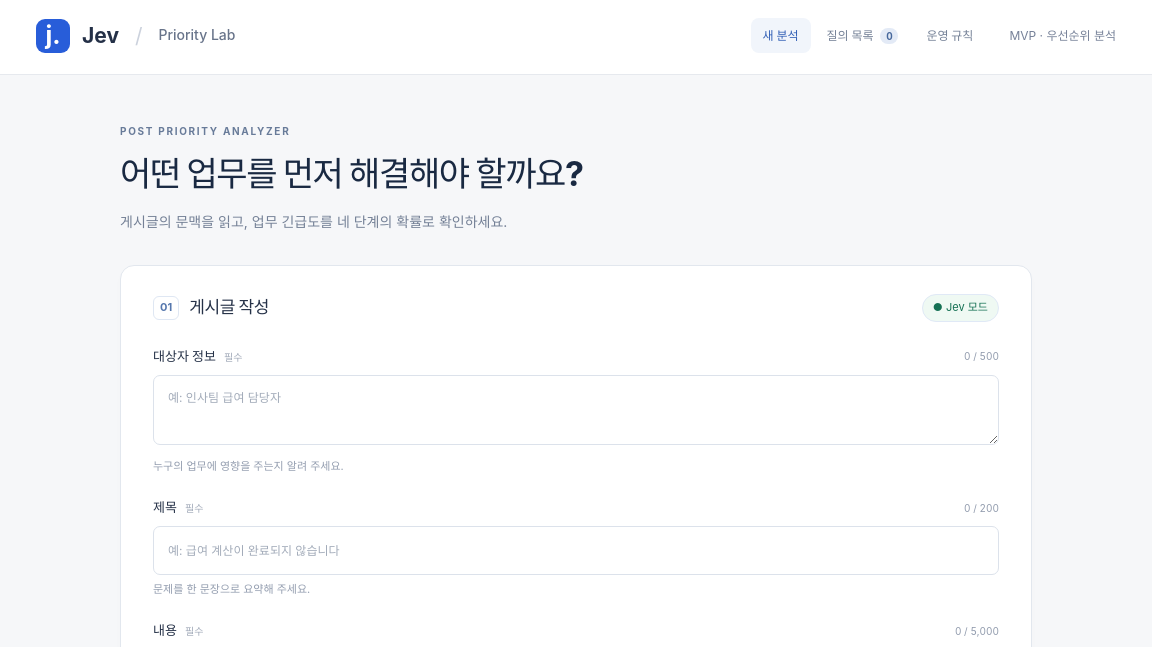
Test: shows Jev provenance
The width and height of the screenshot is (1152, 647).
Expected: the text "● Jev 모드" is shown, [922,294,999,322]
In the text box with id "targetInfo": [576, 410] box [153,375,999,446], type "인사팀 급여 담당자"
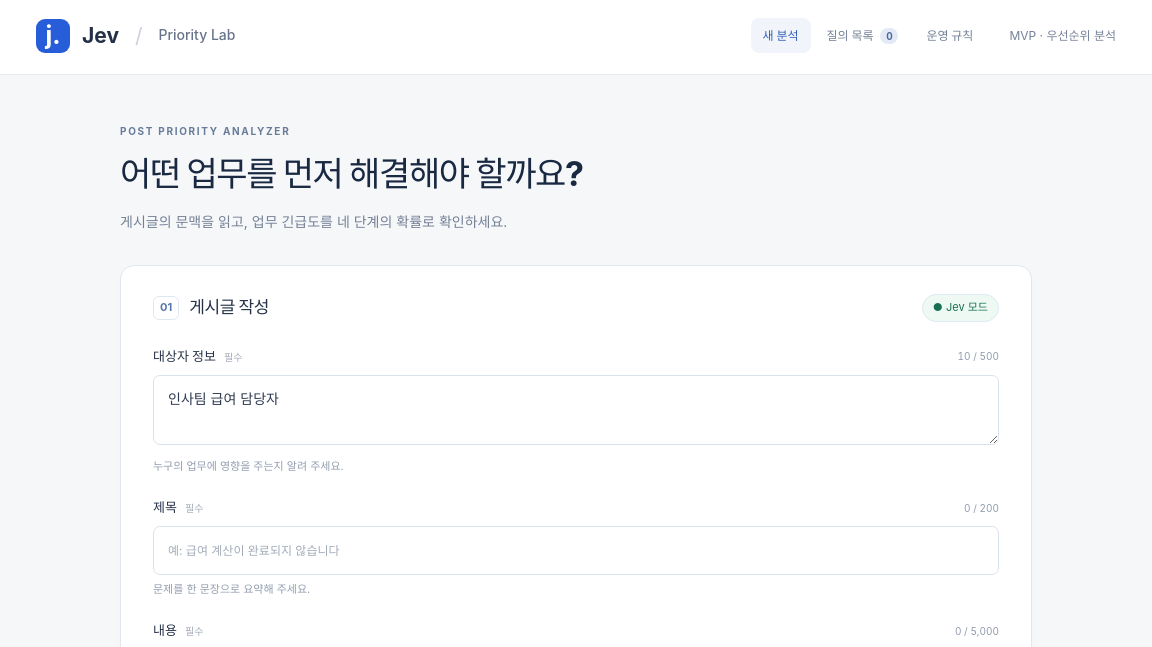
In the field with id "title": [576, 550] box [153,526,999,575], type "급여 계산이 멈췄습니다"
(page scrolled)
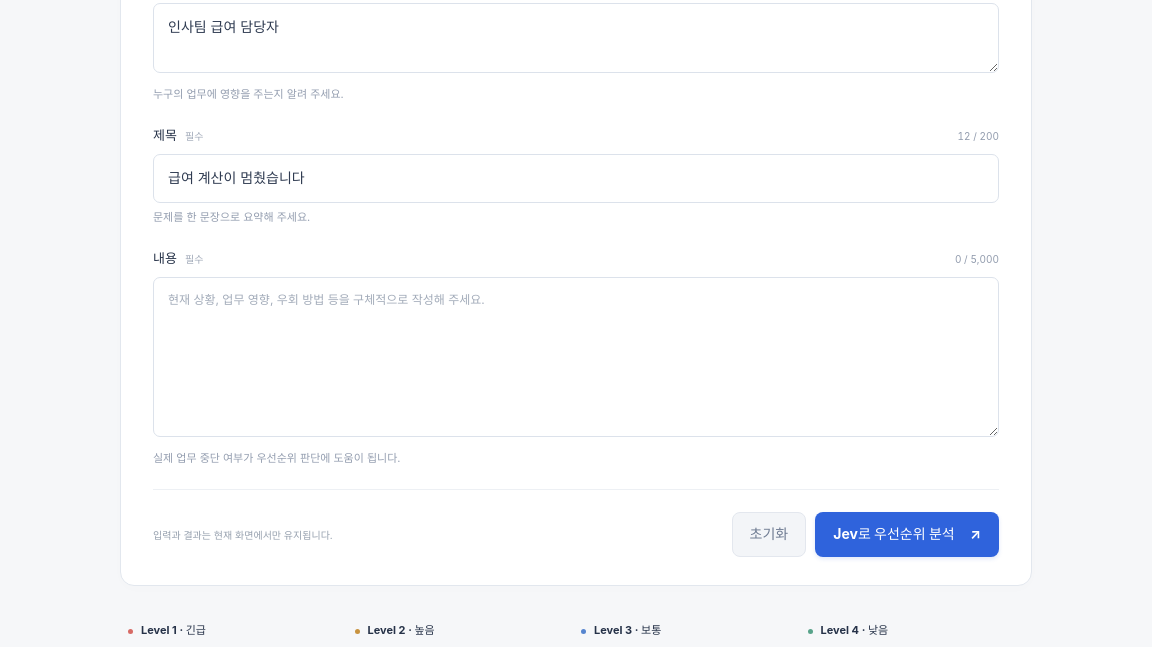
In the text box labelled "내용 필수": [576, 357] box [153,277,999,437], type "급여 계산이 처리 중에서 넘어가지 않아 오늘 마감 업무를 진행할 수 없습니다."
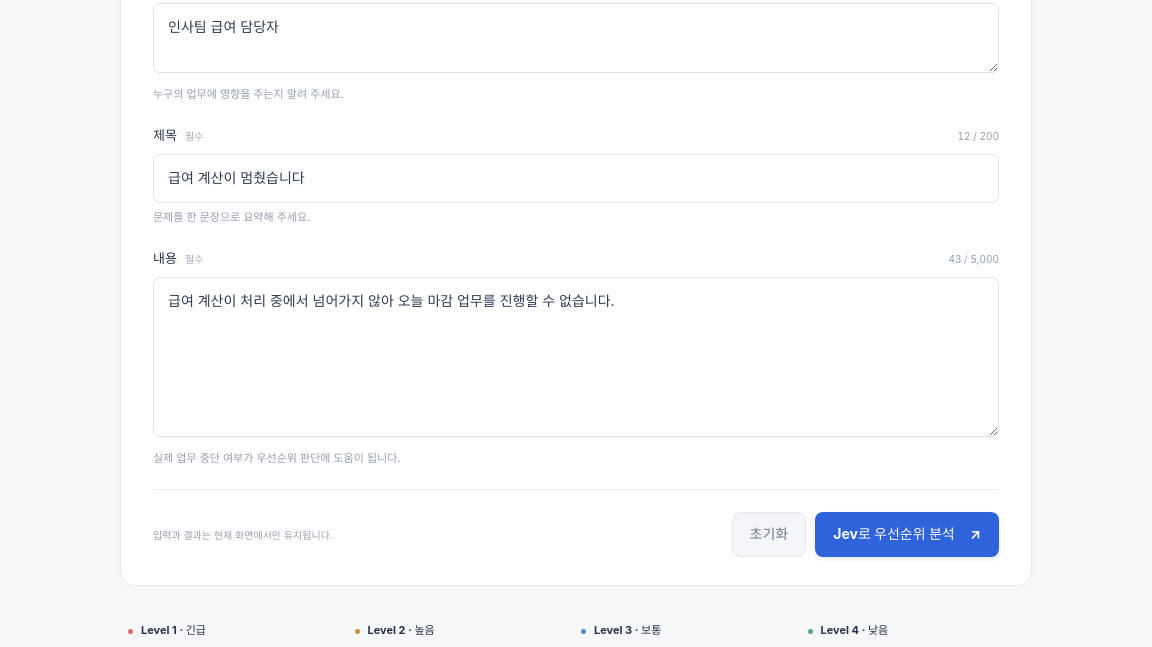
Click the button "Jev로 우선순위 분석 ↗": [907, 534] box [815,512,999,557]
(page scrolled)
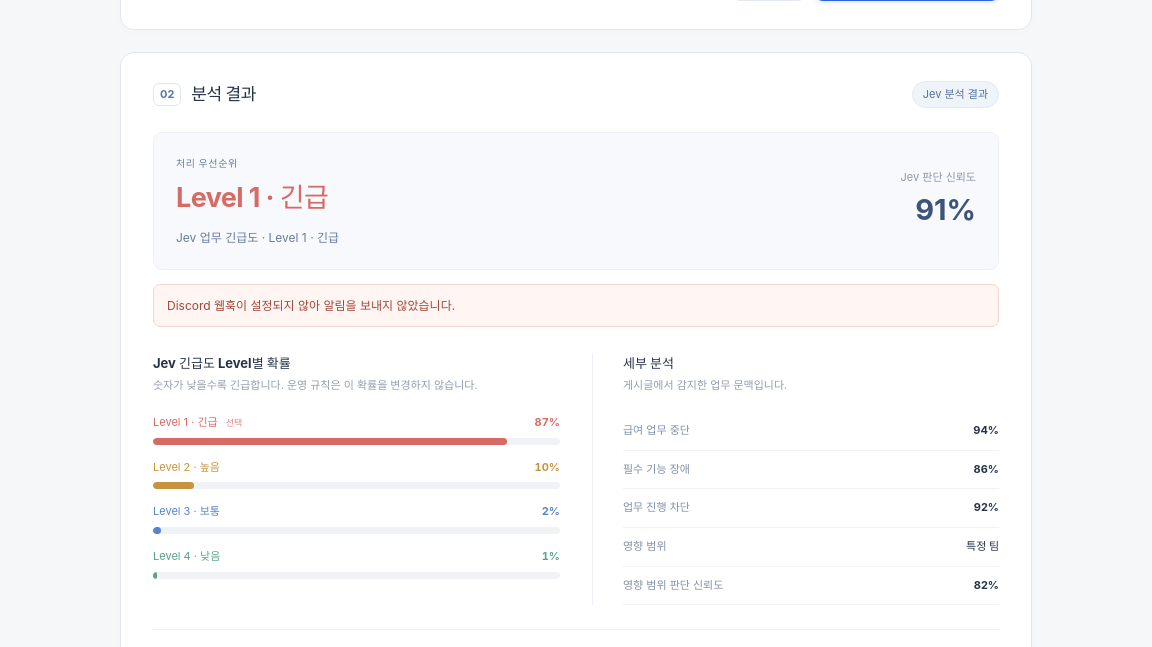
Now the text "Jev 분석 결과" is shown, box [912,81,999,108]
Now the text "Jev 판단 신뢰도" is shown, box [900,169,976,187]
